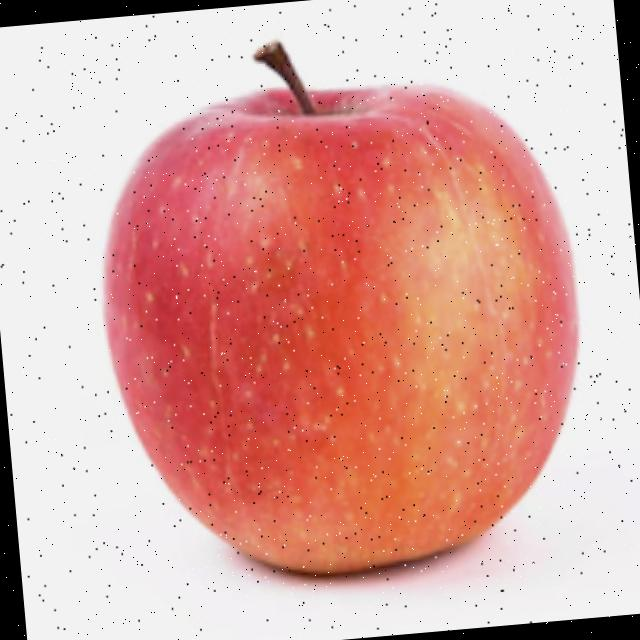Ripe: (80, 54, 614, 597)
